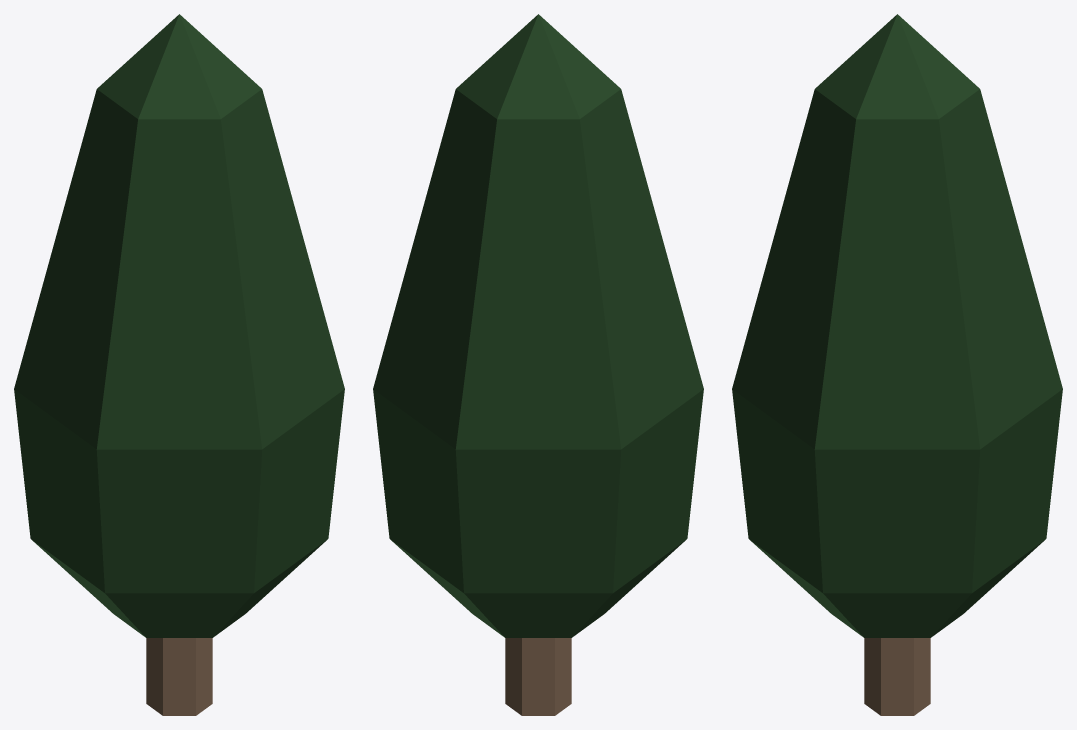
File: Hilly_Prop_Tree_Cedar_2.obj
The picture shows the model from 3 angles, left to right: view 1: azimuth 30°, elevation 25°; view 2: azimuth 150°, elevation 25°; view 3: azimuth 270°, elevation 25°; orthographic projection.
Parts seen in each view (by area): view 1: object2, object1; view 2: object2, object1; view 3: object2, object1.
Part boxes in pixels (x1,y1,x2,y2): object2: (14,14,344,637); object1: (146,638,212,715); object2: (373,14,703,637); object1: (505,638,571,715); object2: (732,14,1062,637); object1: (864,638,930,715).
Size of the model in its own units: 0.866 by 2.3 by 1.
